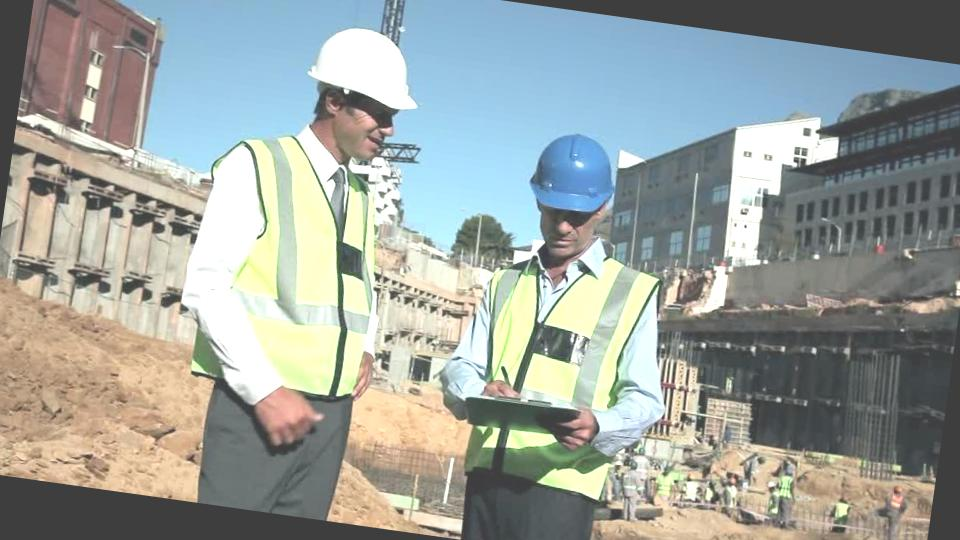helmet: (302, 13, 432, 122), (520, 123, 629, 230)
person: (147, 0, 430, 523), (415, 113, 707, 540)
